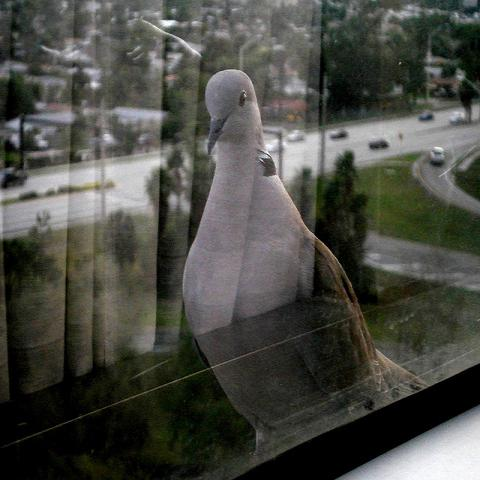car: (0, 167, 29, 188), (367, 137, 391, 149), (429, 146, 445, 164), (328, 128, 351, 140), (268, 139, 288, 152), (448, 111, 464, 124), (288, 129, 305, 140), (418, 111, 434, 121)
